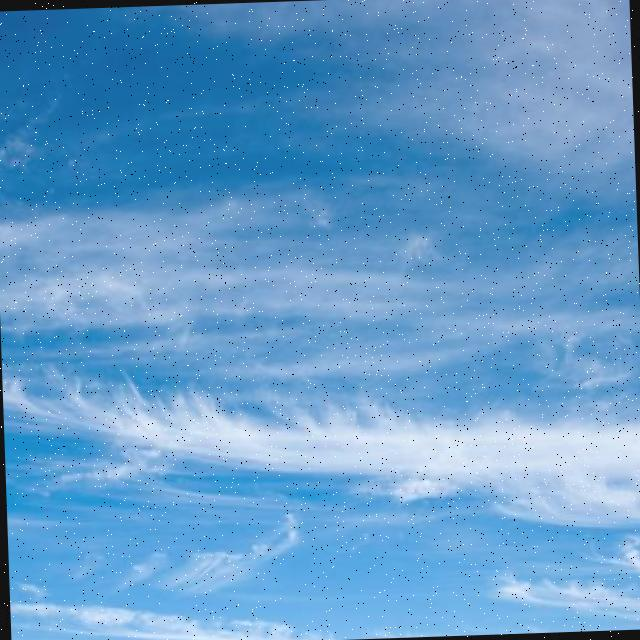Ci: (1, 42, 640, 565)
